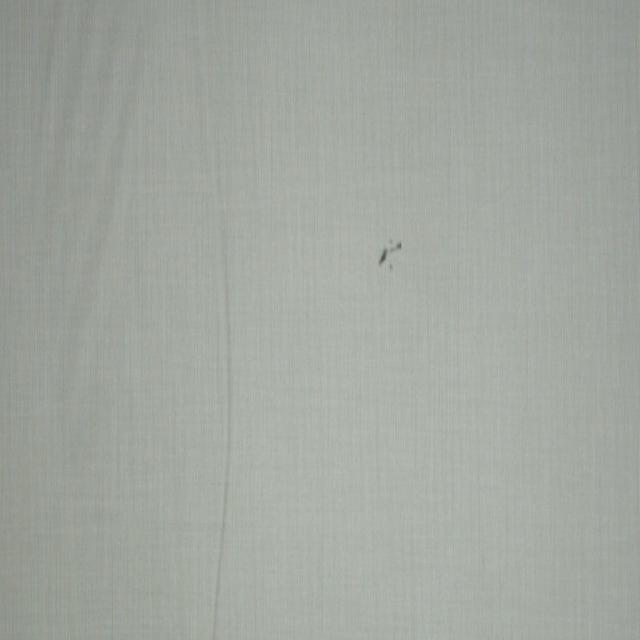dirty: (378, 239, 403, 271)
